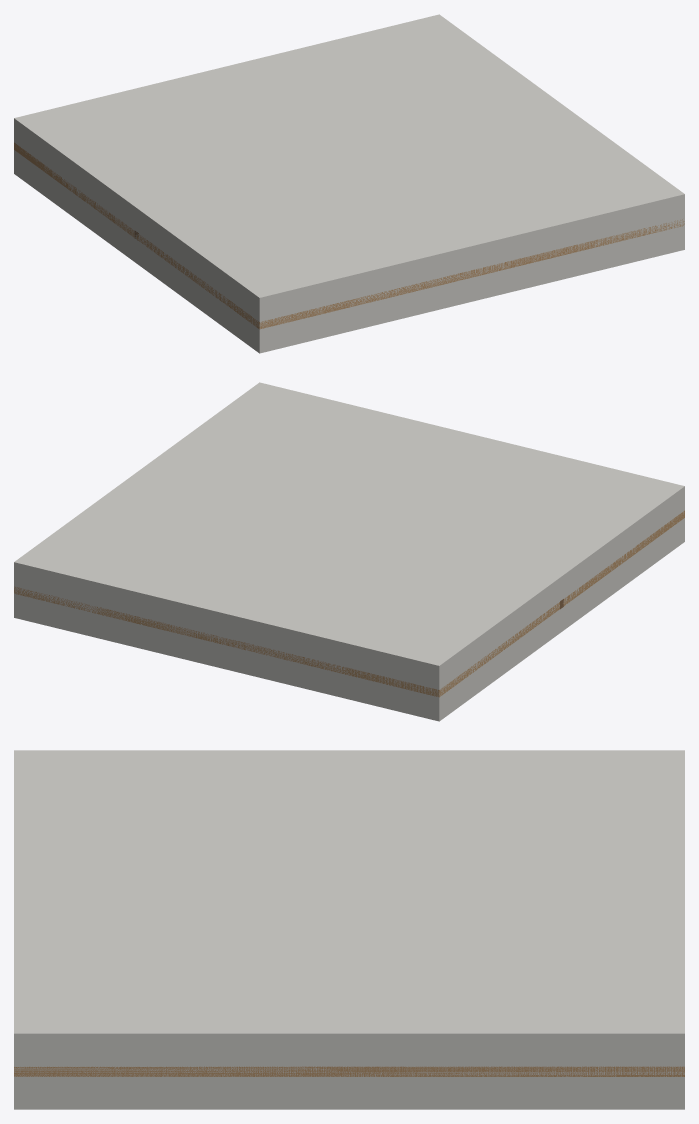
File: stair-landing-1200.glb
3 views of the same model, one above another, from view 1: azimuth 30°, elevation 25°; view 2: azimuth 150°, elevation 25°; view 3: azimuth 270°, elevation 25° (orthographic). The views are drawn at different scales.
Visible parts, largest first — view 1: LandingSlab, Finish.001; view 2: LandingSlab, Finish.001; view 3: LandingSlab, Finish.001.
Part boxes in pixels (x1,y1,x2,y2): LandingSlab: (14, 14, 684, 353); Finish.001: (14, 142, 684, 329); LandingSlab: (14, 382, 684, 721); Finish.001: (14, 510, 684, 697); LandingSlab: (14, 750, 684, 1109); Finish.001: (14, 1066, 684, 1076).
Size of the model in its own units: 1.2 by 0.15 by 1.2.
